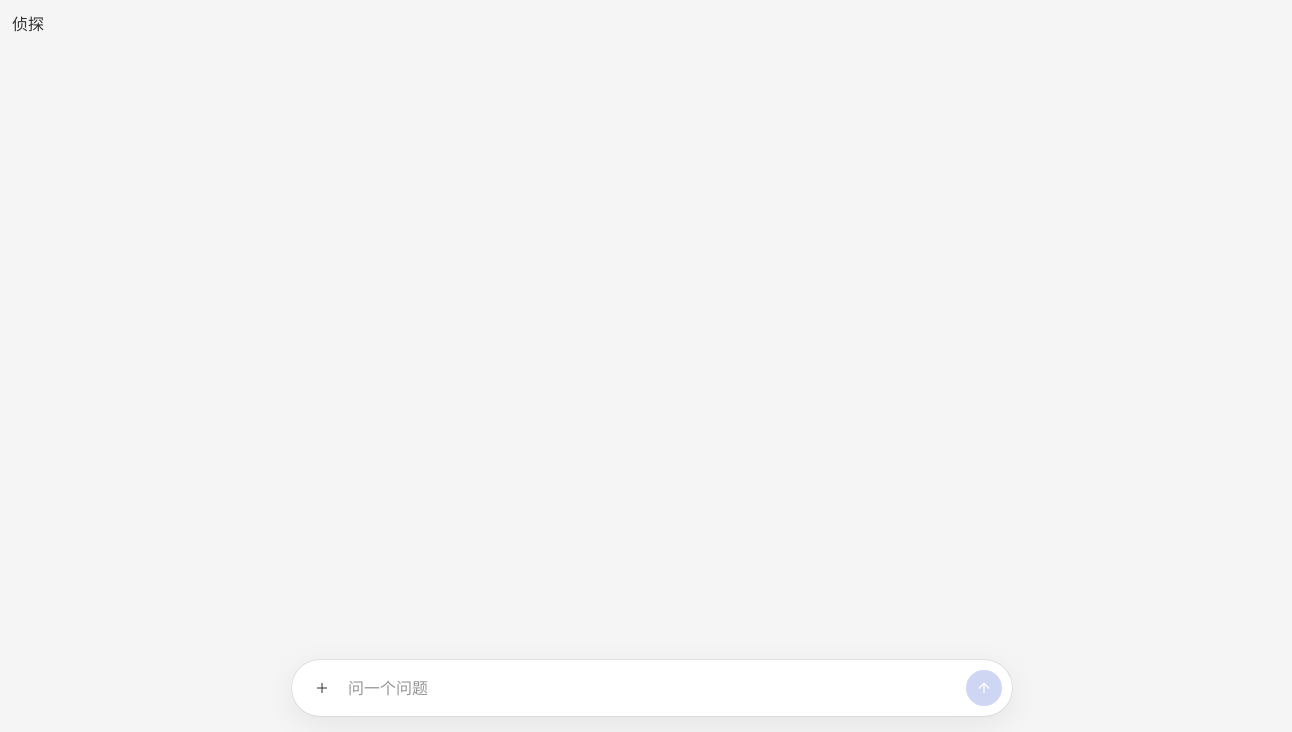
public quota offers a direct account key settings action (stream)
This screenshot has width=1292, height=732.
In the text box named "问侦探": (653, 688) [348,670,958,706], type "查原问题的报名时间"
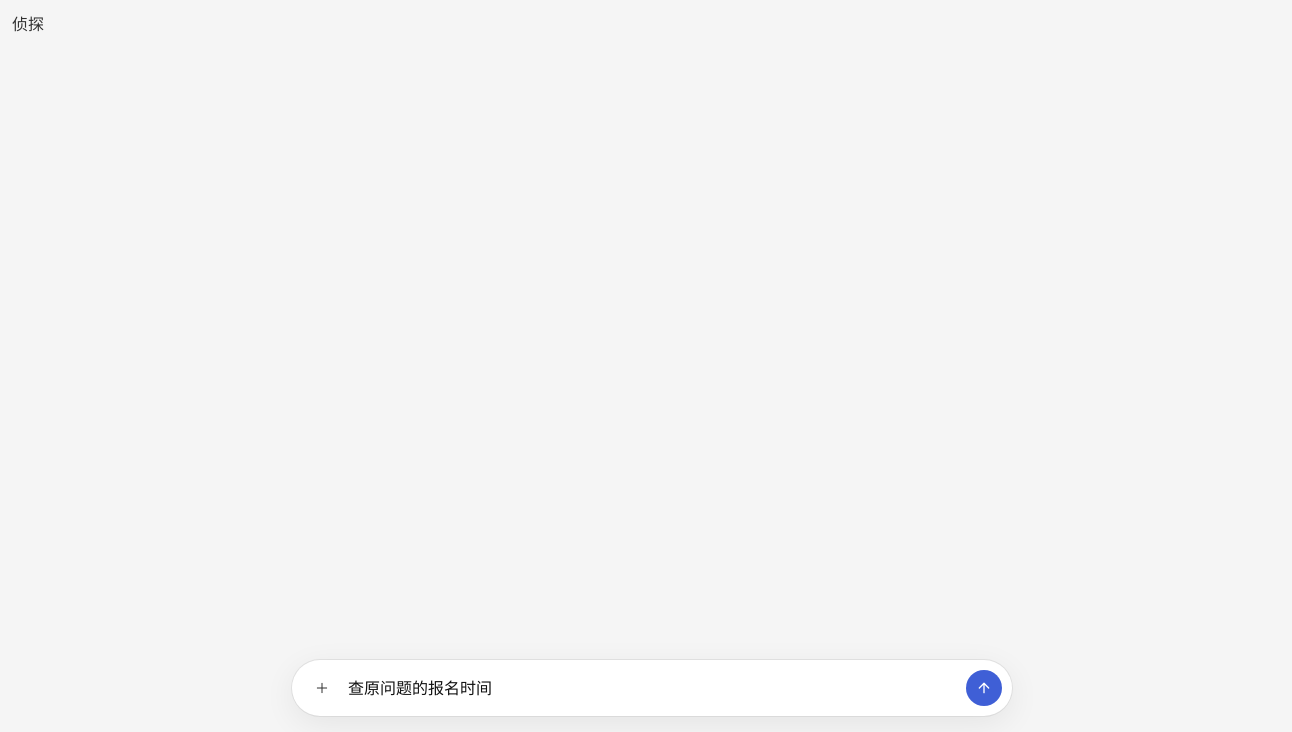
Submit the form named "查证", box [292,660,1012,716]
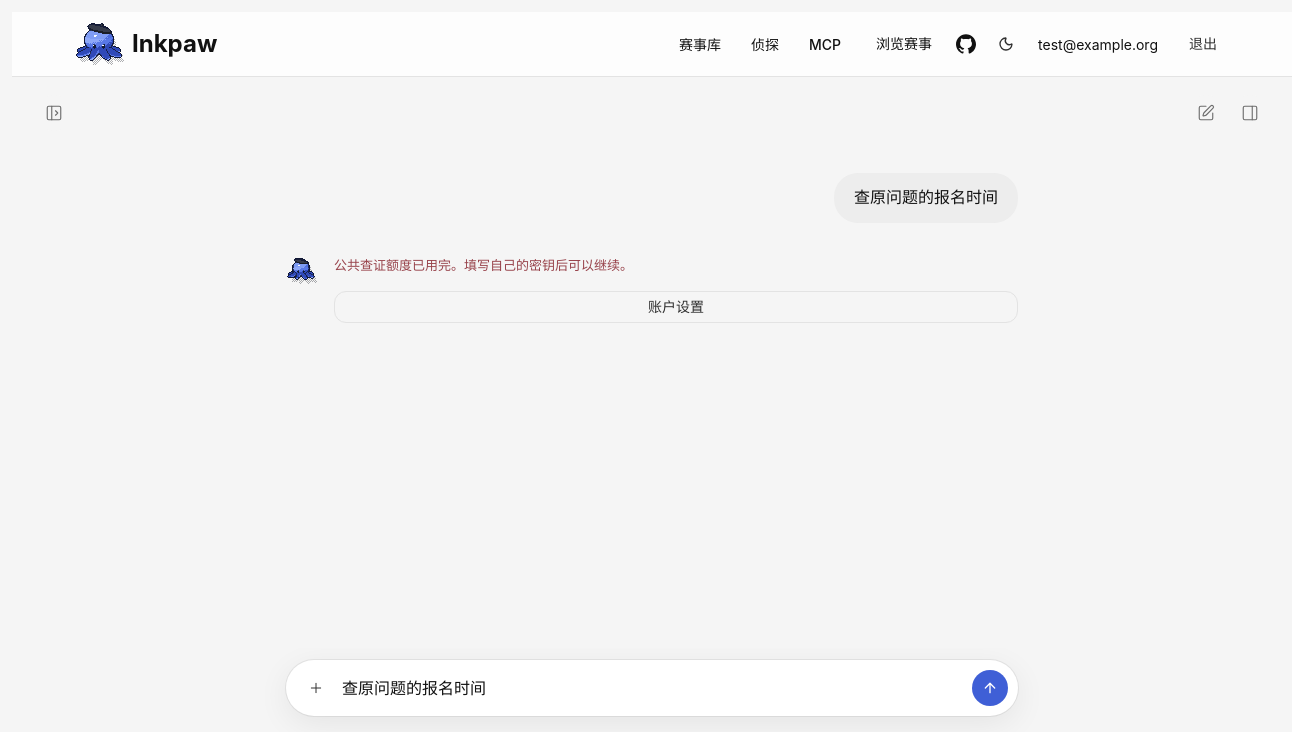
Check: the text "公共查证额度已用完。填写自己的密钥后可以继续。" is shown, box [334,257,633,273]
